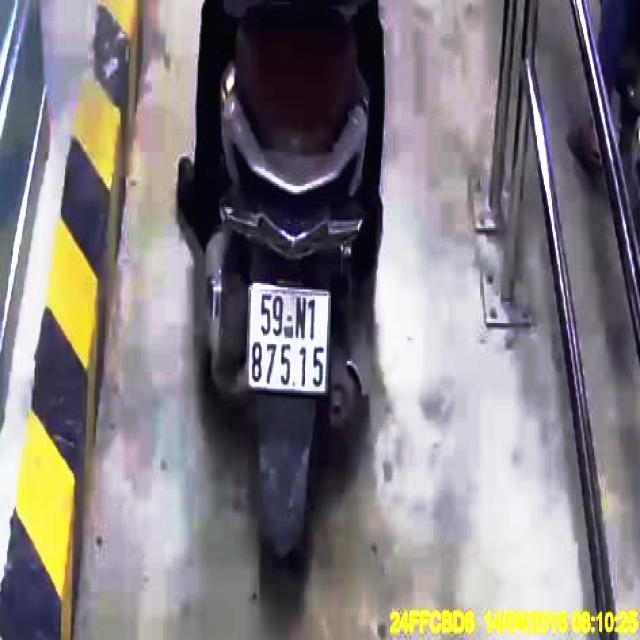license_plate: (249, 286, 331, 395)
